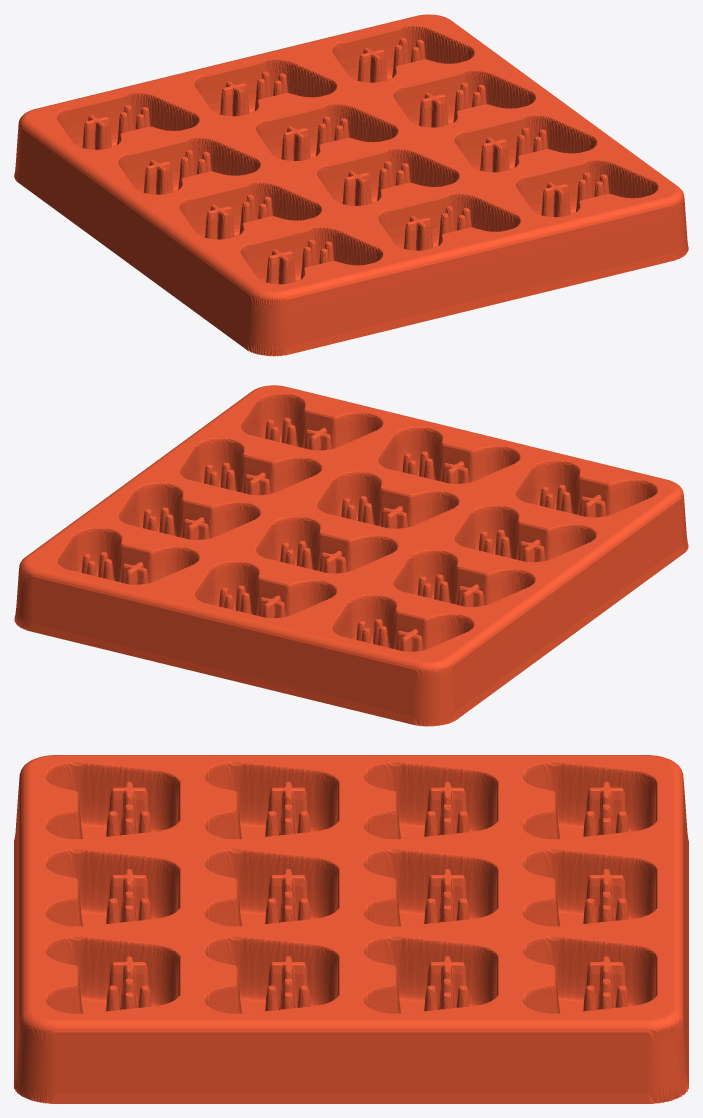
The model's file is mold.glb.
3 views of the same model, one above another, from view 1: azimuth 30°, elevation 25°; view 2: azimuth 150°, elevation 25°; view 3: azimuth 270°, elevation 25° (orthographic). The views are drawn at different scales.
Parts seen in each view (by area): view 1: geometry_0; view 2: geometry_0; view 3: geometry_0.
Part boxes in pixels (box(x1,y1,x2,y2)): geometry_0: box(14, 14, 688, 356); geometry_0: box(14, 385, 688, 726); geometry_0: box(14, 755, 688, 1103).
Bounding box in the file's own units: 0.141 × 0.0182 × 0.1446.
